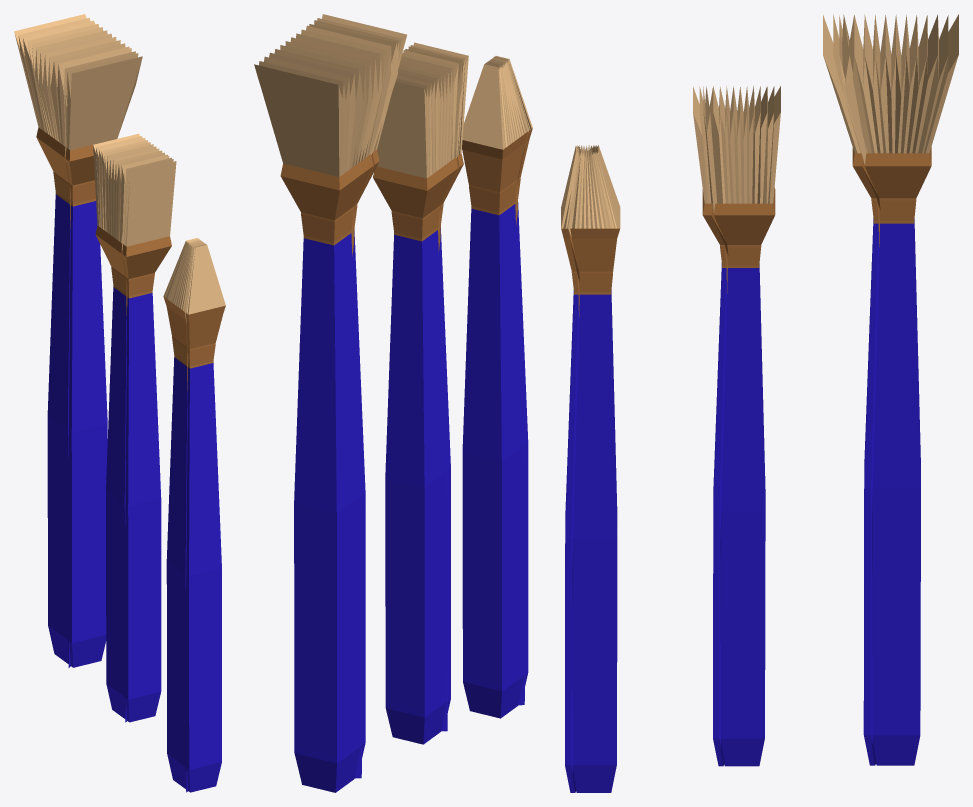
Rendered from coloring_pins.glb.
3 views of the same model, side by side, from view 1: azimuth 30°, elevation 25°; view 2: azimuth 150°, elevation 25°; view 3: azimuth 270°, elevation 25° (orthographic). The views are drawn at different scales.
Visible parts, largest first — view 1: Cube, Cube.001, Cube.002; view 2: Cube, Cube.001, Cube.002; view 3: Cube, Cube.001, Cube.002.
Boxes of the visible parts, box(x1,y1,x2,y2) form: Cube: box(14, 14, 142, 667); Cube.001: box(93, 133, 176, 722); Cube.002: box(163, 238, 225, 792); Cube: box(254, 14, 406, 792); Cube.001: box(373, 42, 468, 744); Cube.002: box(462, 56, 532, 718); Cube: box(823, 14, 958, 765); Cube.001: box(693, 86, 780, 766); Cube.002: box(561, 145, 620, 792).
Size of the model in its own units: 0.6219 by 5.12 by 2.44.
